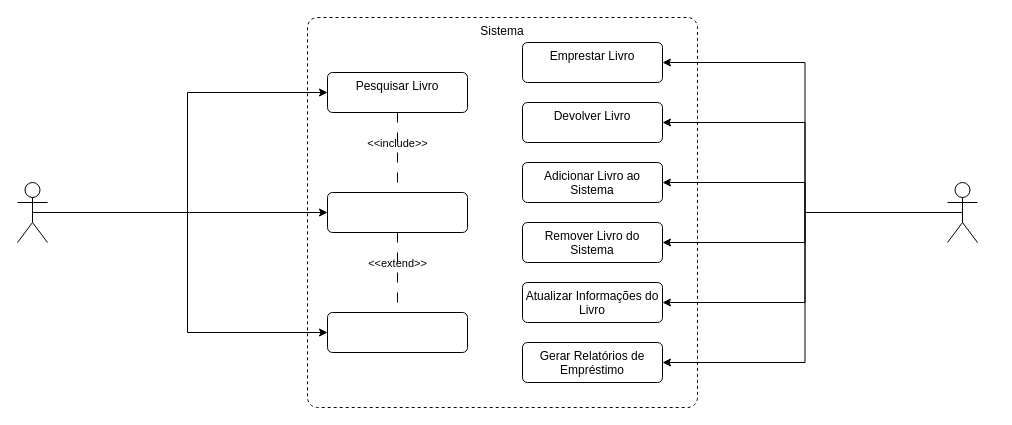
This 1012x425 diagram has some shape labels left out. The centre of each missing label's shape, as x and y in pixels:
"Aluno" belongs at (x=32, y=212).
"Bibliotecário" belongs at (x=962, y=212).
"Cancelar Reserva" belongs at (x=397, y=332).
"Reservar Livro" belongs at (x=397, y=212).
